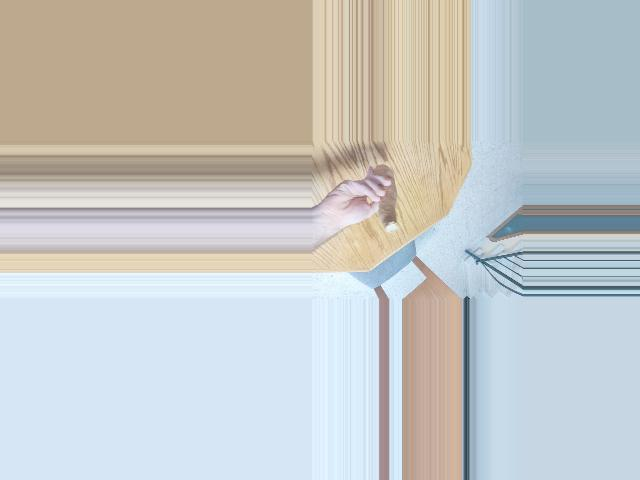sweet_potato: (370, 165, 400, 234)
